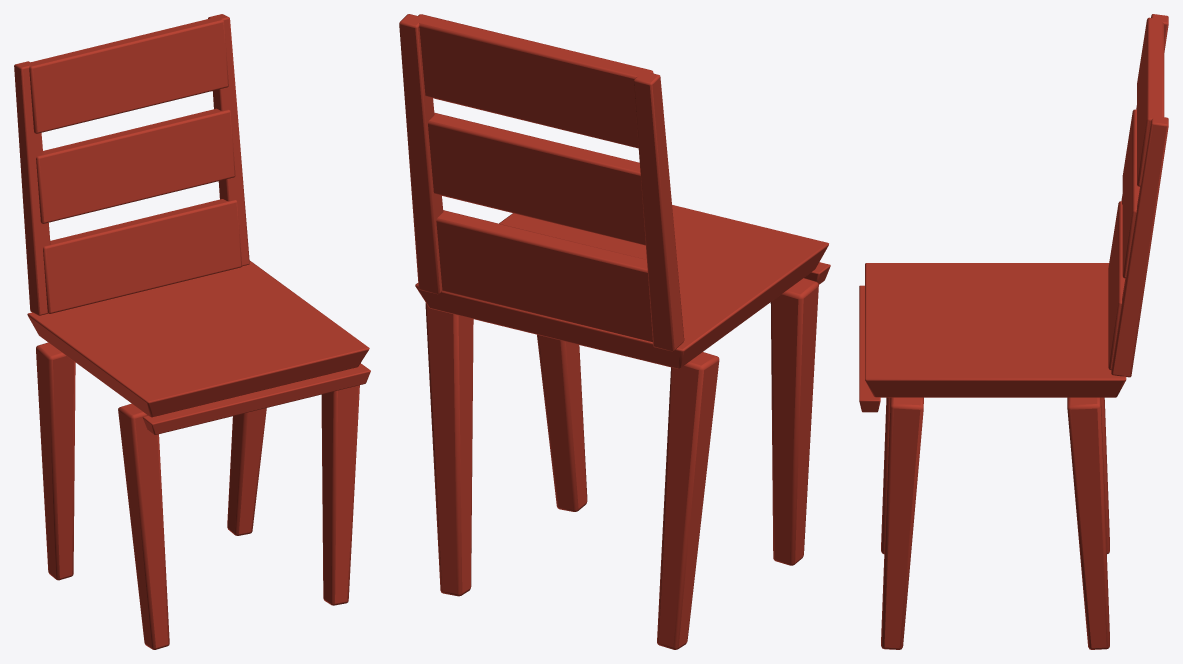
The model's file is SM_PlasticChair_Red.glb.
3 views of the same model, side by side, from view 1: azimuth 30°, elevation 25°; view 2: azimuth 150°, elevation 25°; view 3: azimuth 270°, elevation 25° (orthographic). The views are drawn at different scales.
Parts seen in each view (by area): view 1: SM_PlasticChair; view 2: SM_PlasticChair; view 3: SM_PlasticChair.
Boxes of the visible parts, x1=… form: SM_PlasticChair: x1=14, y1=14, x2=370, y2=649; SM_PlasticChair: x1=399, y1=14, x2=830, y2=649; SM_PlasticChair: x1=859, y1=14, x2=1168, y2=649.
Size of the model in its own units: 0.3915 by 0.8036 by 0.4238.
